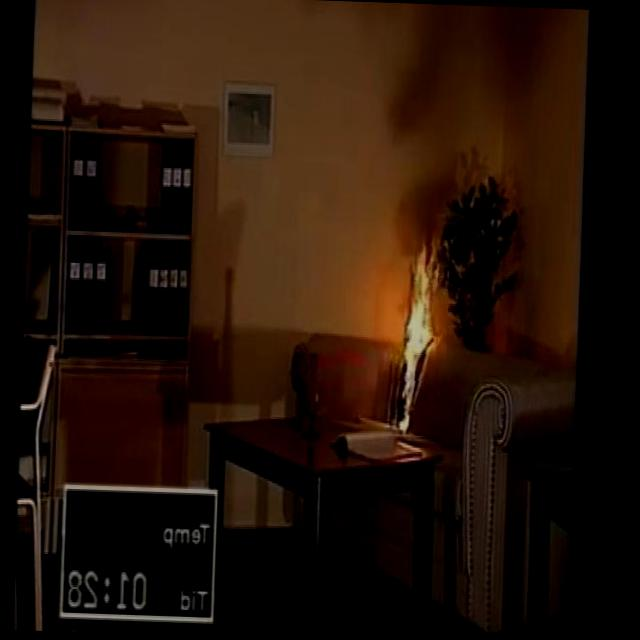fire: (382, 250, 442, 420)
